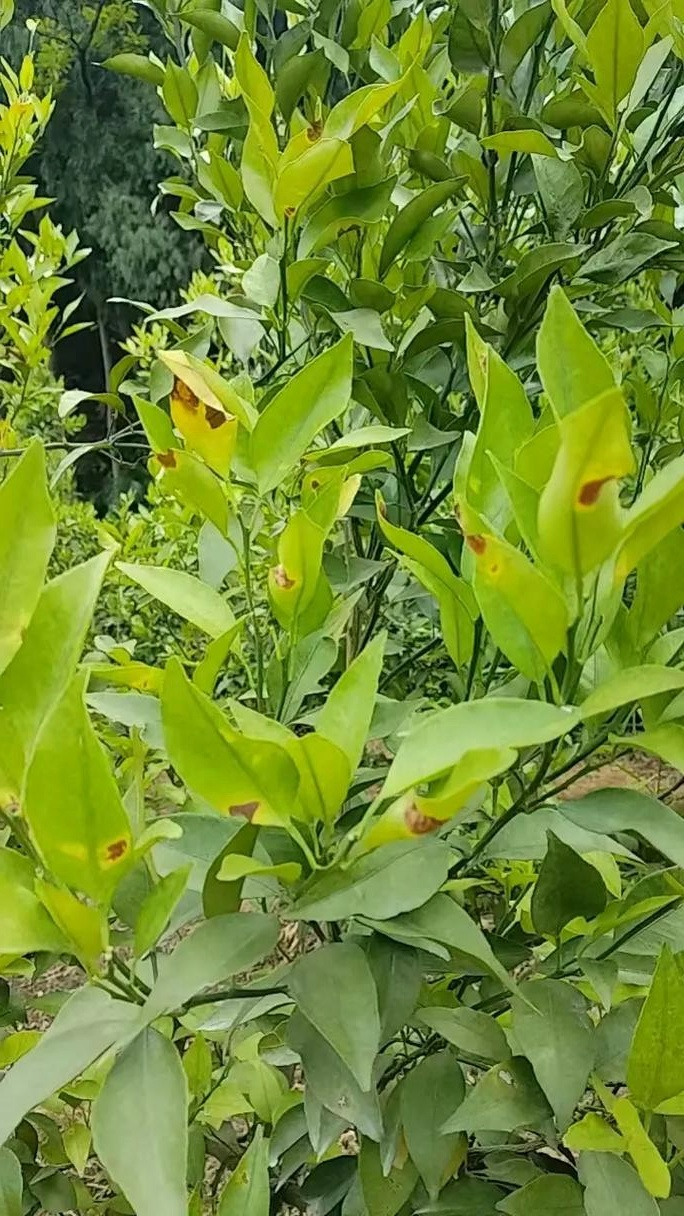Anthracnose: (108, 351, 301, 514), (433, 422, 641, 572), (285, 761, 494, 856), (111, 773, 270, 857), (265, 519, 351, 603)
